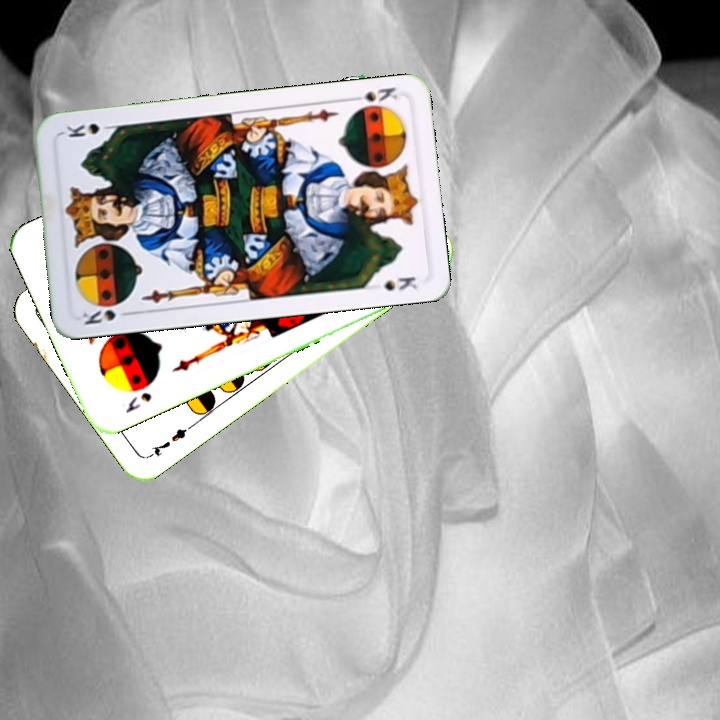E7: (144, 421, 196, 461)
SK: (78, 305, 136, 327), (345, 82, 399, 105), (121, 388, 155, 416)
